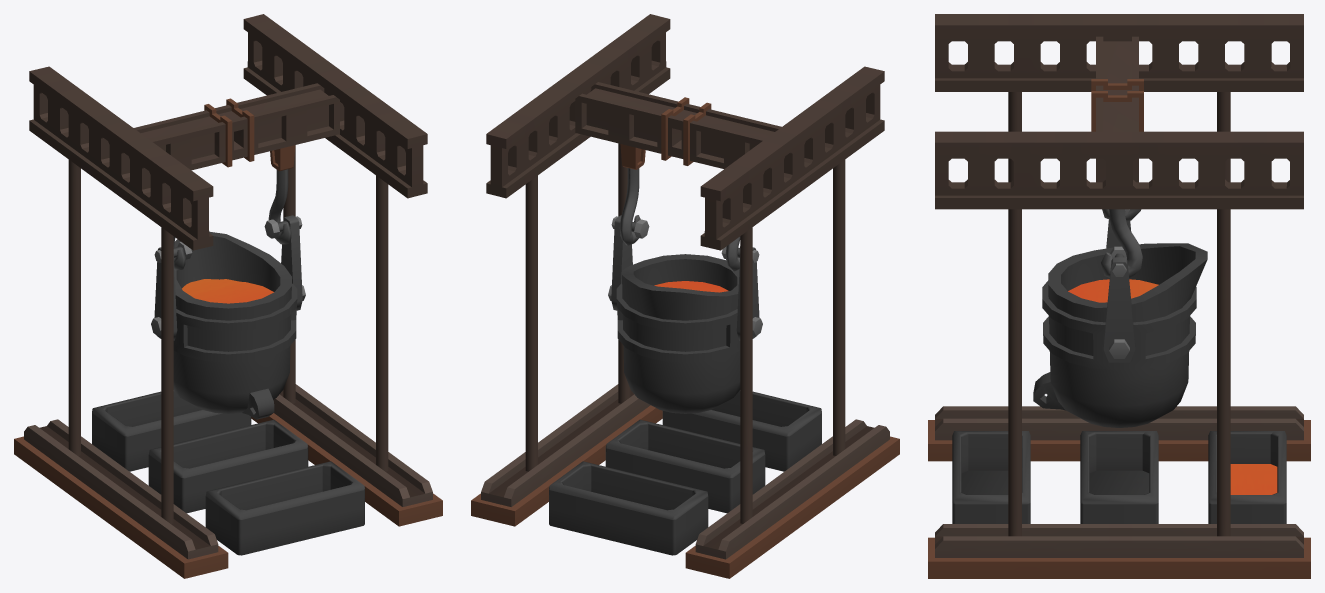
Rendered from OBJ_MoltenForge.fbx.
3 renders of one model, left to right at view 1: azimuth 30°, elevation 25°; view 2: azimuth 150°, elevation 25°; view 3: azimuth 270°, elevation 25°, orthographic. The views are drawn at different scales.
Visible parts, largest first — view 1: OBJ_MoltenForge, Bucket, BucketMover, Bucket_Molten; view 2: OBJ_MoltenForge, Bucket, BucketMover; view 3: OBJ_MoltenForge, Bucket, BucketMover, Ingot_Molten1, Bucket_Molten.
Part boxes in pixels (bbox=[...]): OBJ_MoltenForge: bbox=[14, 14, 442, 578]; Bucket: bbox=[173, 231, 297, 419]; BucketMover: bbox=[134, 83, 339, 340]; Bucket_Molten: bbox=[182, 279, 273, 303]; OBJ_MoltenForge: bbox=[471, 14, 899, 578]; Bucket: bbox=[616, 254, 740, 413]; BucketMover: bbox=[575, 82, 781, 340]; OBJ_MoltenForge: bbox=[928, 14, 1310, 578]; Bucket: bbox=[1033, 243, 1207, 427]; BucketMover: bbox=[1091, 36, 1143, 362]; Ingot_Molten1: bbox=[1230, 464, 1277, 494]; Bucket_Molten: bbox=[1068, 279, 1158, 302].
Bounding box in the file's own units: 142 × 201 × 162.
